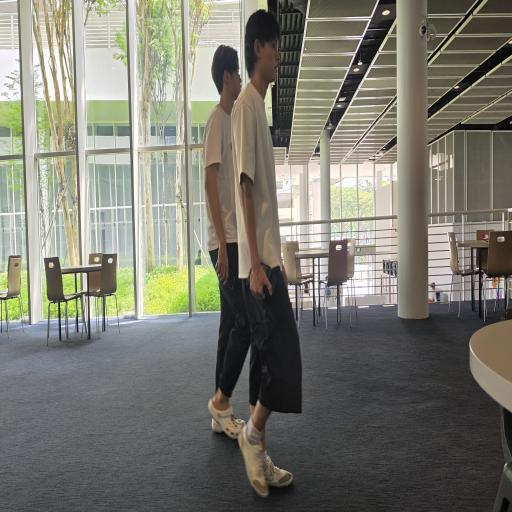person_right: (234, 9, 300, 501), (200, 36, 250, 440)
